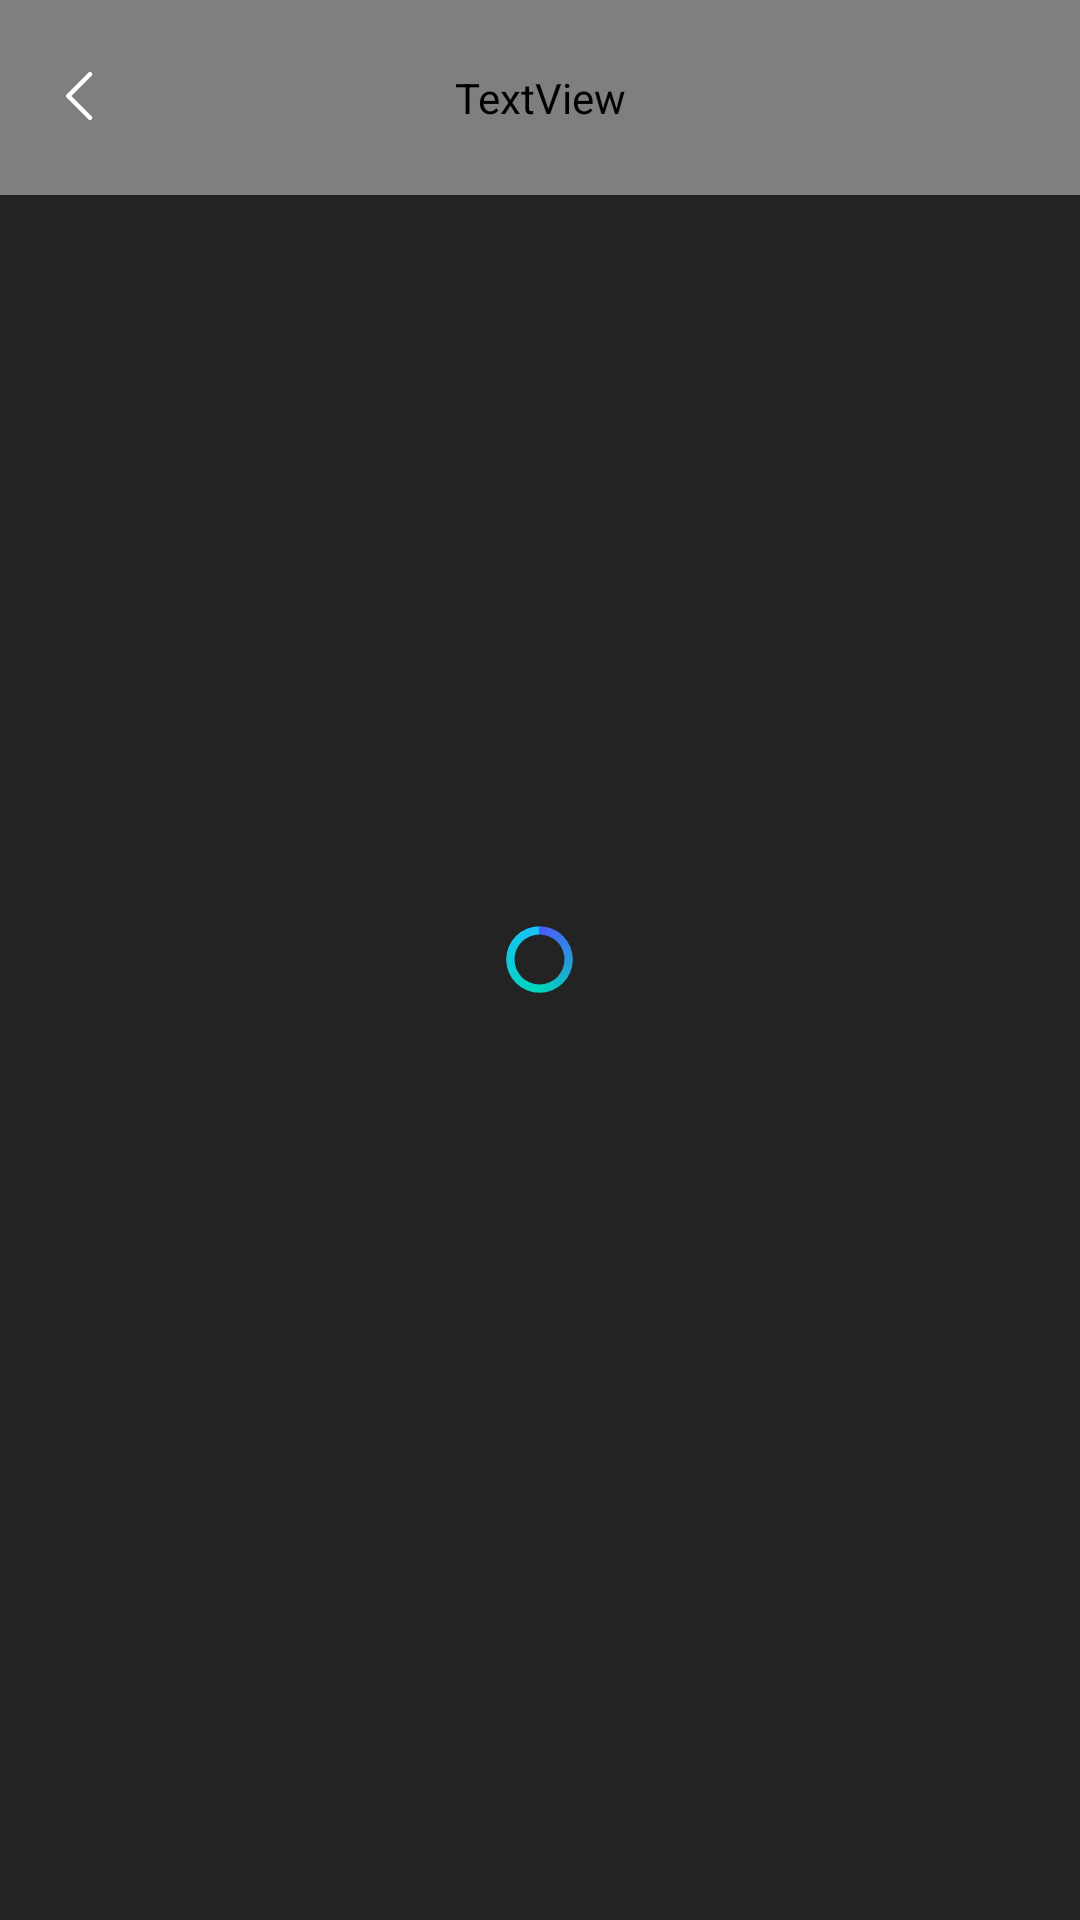

Point at icon controls on the screen. Image size 1080px×1920px, points as (x,y).
back: (79,96)
